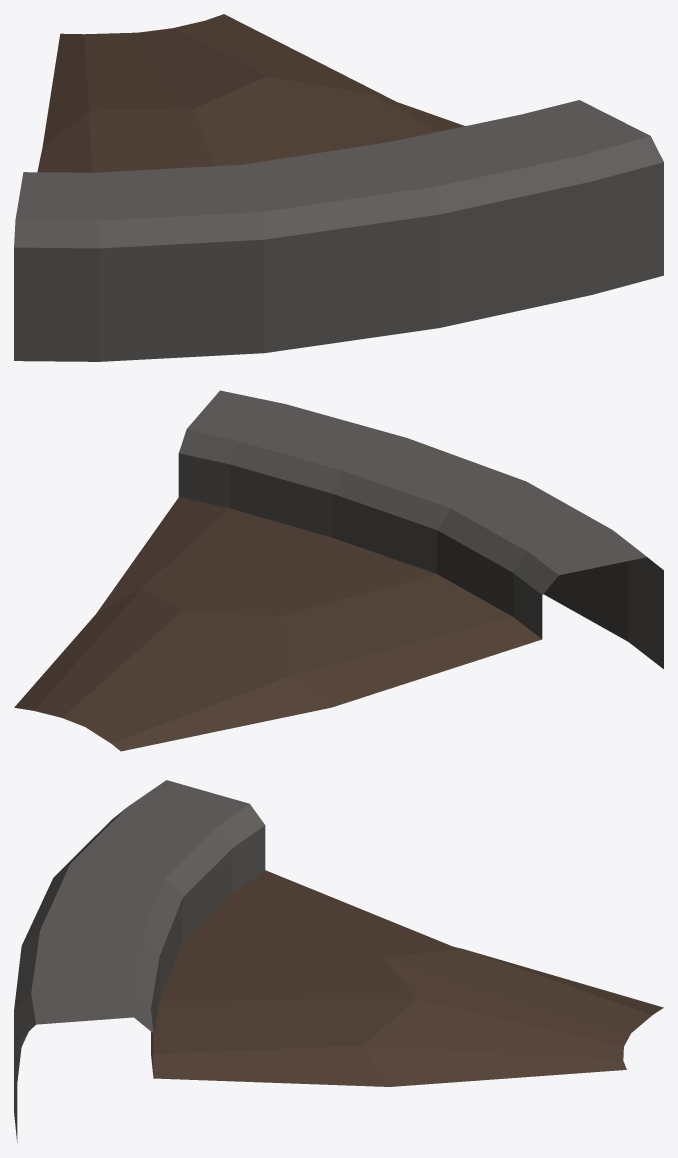
File: Garden Ground Turn 3.fbx
The picture shows the model from 3 angles, top to bottom: view 1: azimuth 30°, elevation 25°; view 2: azimuth 150°, elevation 25°; view 3: azimuth 270°, elevation 25°; orthographic projection. The views are drawn at different scales.
Visible parts, largest first — view 1: Garden Ground Turn 3.001; view 2: Garden Ground Turn 3.001; view 3: Garden Ground Turn 3.001.
Boxes of the visible parts, box(x1,y1,x2,y2) form: Garden Ground Turn 3.001: box(14, 14, 663, 361); Garden Ground Turn 3.001: box(14, 390, 663, 751); Garden Ground Turn 3.001: box(14, 780, 663, 1142).
Bounding box in the file's own units: 105 × 115 × 23.15.
